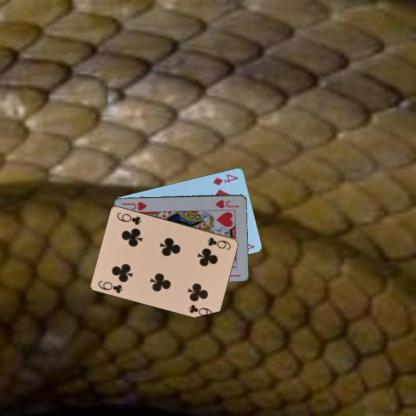4d: (210, 172, 240, 186)
6c: (204, 234, 232, 250), (96, 278, 124, 294)
Jh: (213, 198, 240, 209)
